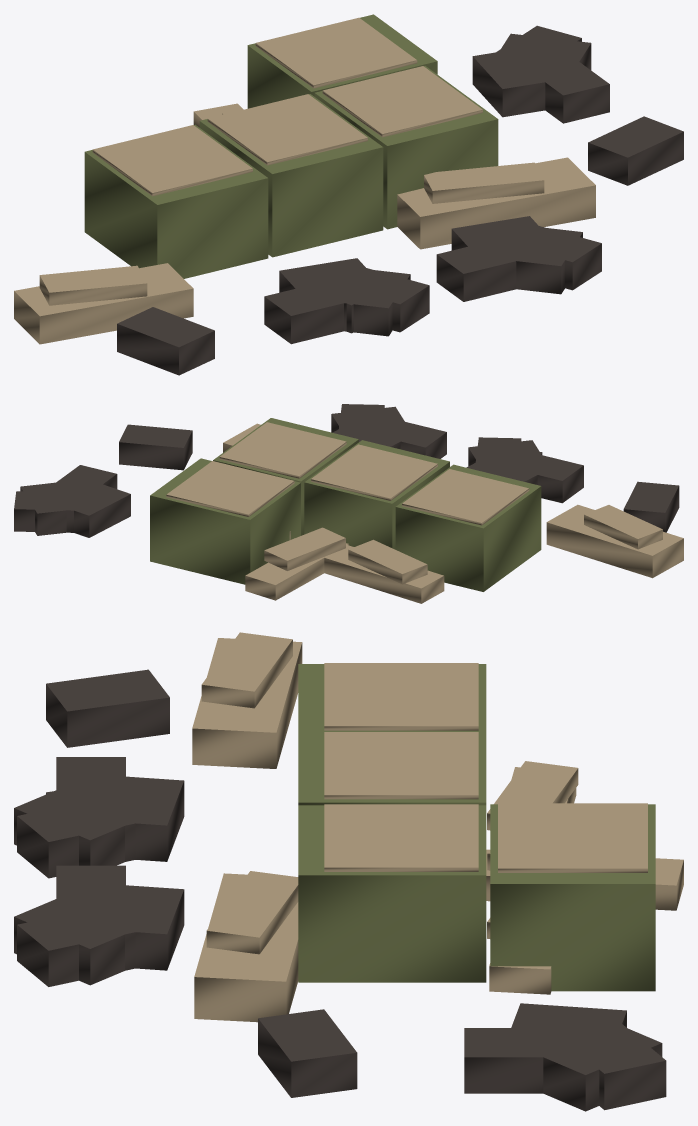
The model's file is SM_HescoRemateEspejo_v0_MallaLimpia_e2_MuyDanado_LOD1.fbx.
3 views of the same model, one above another, from view 1: azimuth 30°, elevation 25°; view 2: azimuth 150°, elevation 25°; view 3: azimuth 270°, elevation 25° (orthographic). The views are drawn at different scales.
Visible parts, largest first — view 1: SM_hesco_piezas_v22_LOD1; view 2: SM_hesco_piezas_v22_LOD1; view 3: SM_hesco_piezas_v22_LOD1.
Boxes of the visible parts, bbox=[...] form: SM_hesco_piezas_v22_LOD1: bbox=[14, 14, 683, 375]; SM_hesco_piezas_v22_LOD1: bbox=[14, 404, 683, 603]; SM_hesco_piezas_v22_LOD1: bbox=[14, 632, 683, 1111].
Size of the model in its own units: 6.71 by 0.799 by 4.34.
